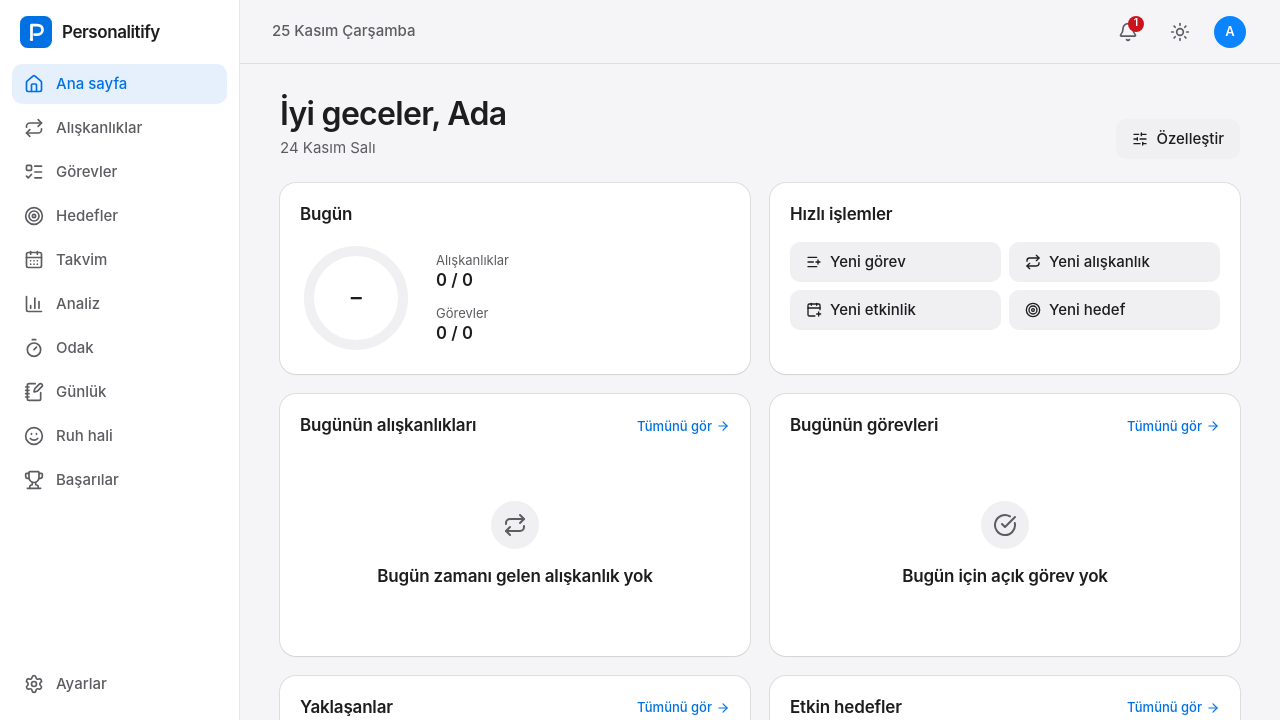
Test: notifications menu › opens a notification: marks it as read and goes to what it is about
The image size is (1280, 720).
Click the button named "Bildirimler, 1 okunmamış": (1128, 32) [1108,12,1148,52]
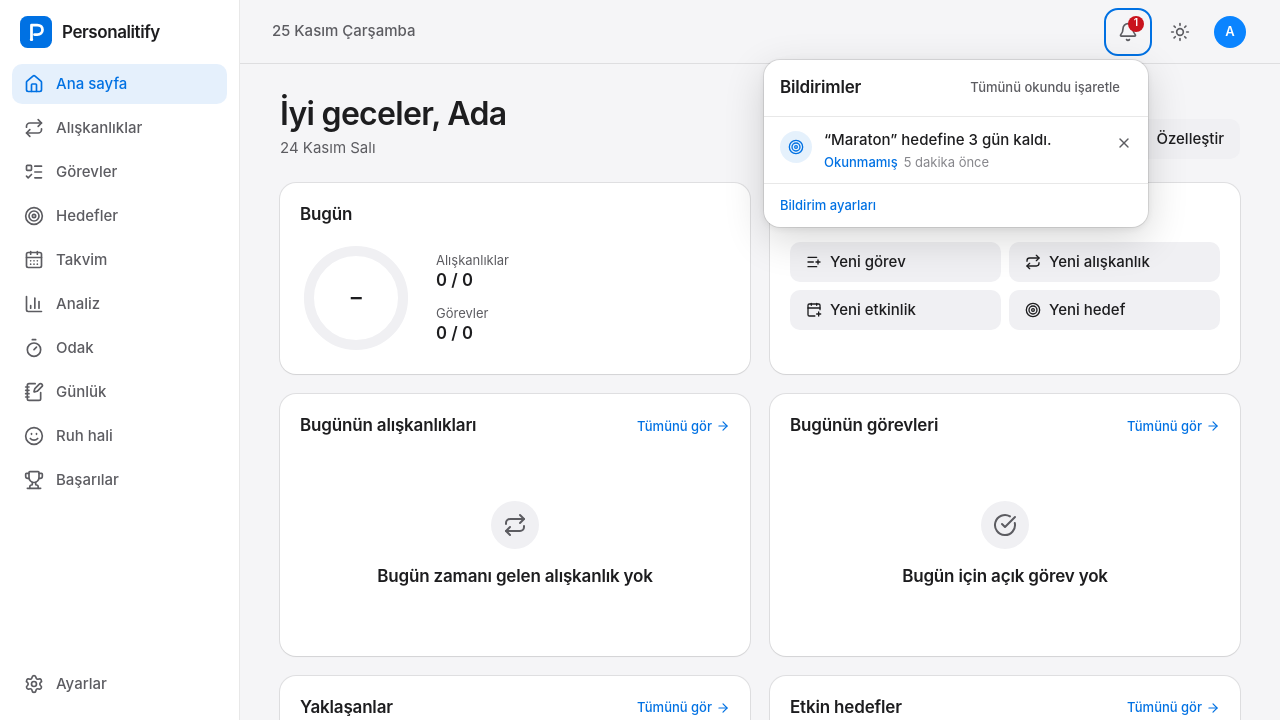
Click the button "“Maraton” hedefine 3 gün kaldı. Okunmamış5 dakika önce": (934, 150) [764,116,1104,183]
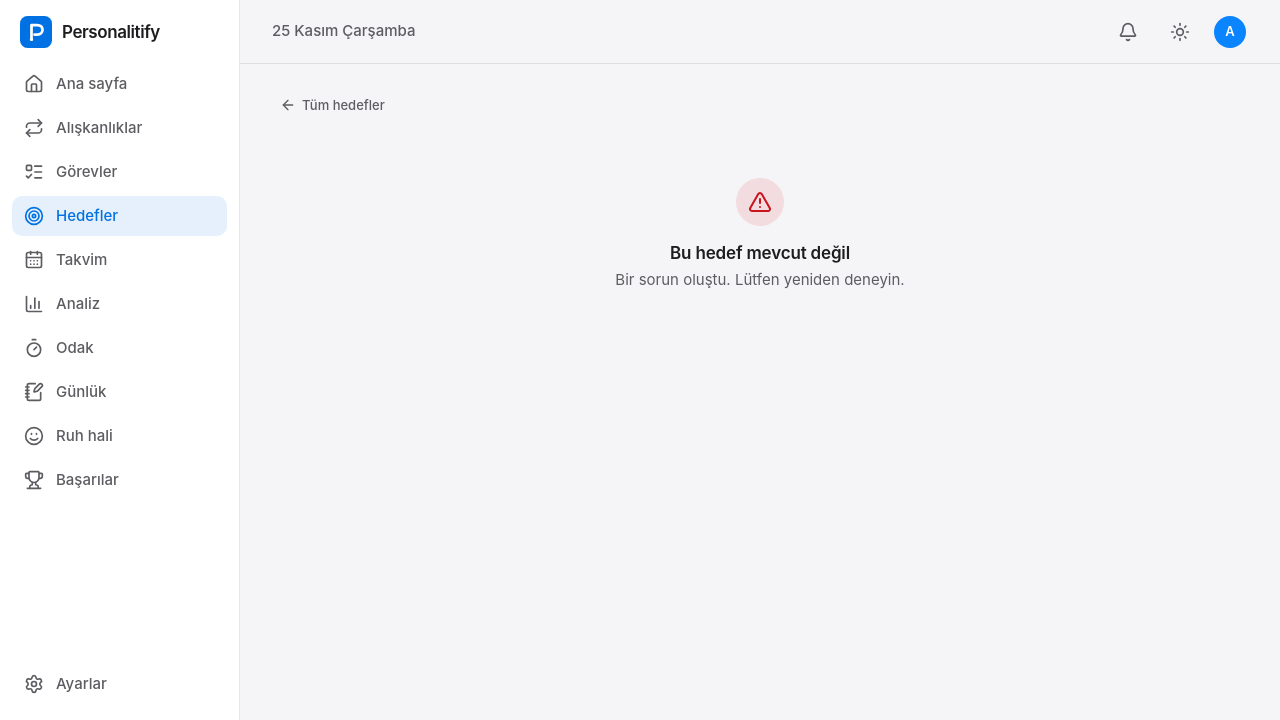
Check: the button named "Bildirimler" is shown, box [1108,12,1148,52]
Check: the heading "Bildirimler" is gone
